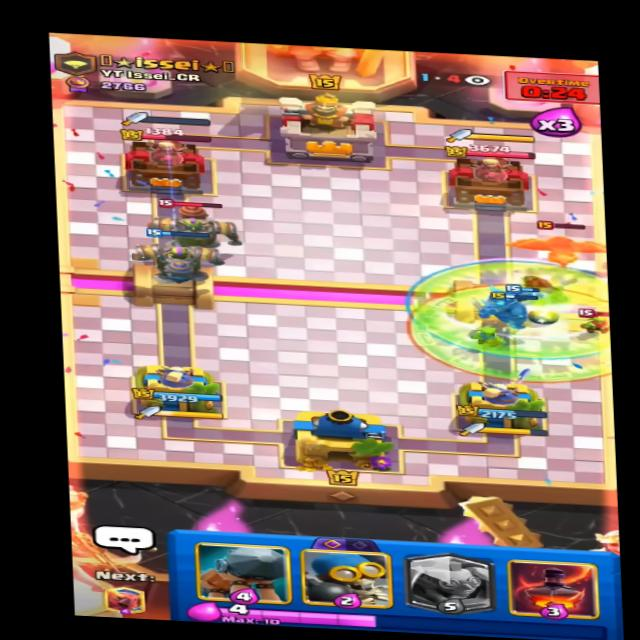goblin: (573, 305, 620, 338)
goblin-curse: (393, 279, 623, 386)
goblin-machine: (138, 192, 239, 250)
phoenix: (509, 216, 603, 272)
